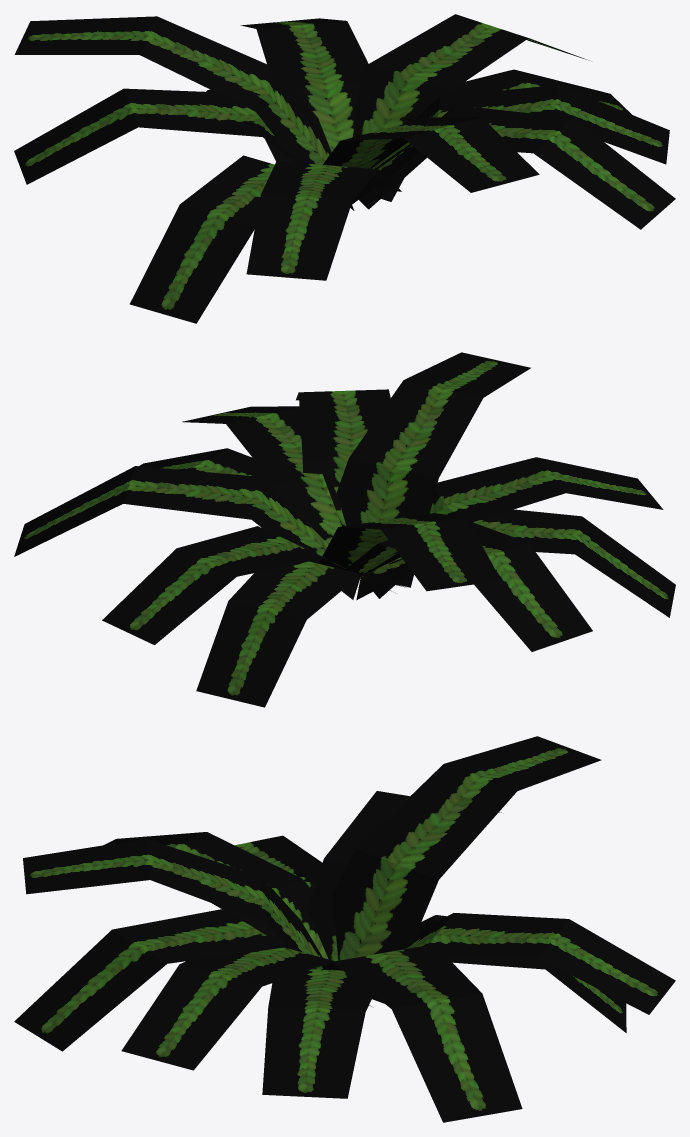
File: fern.glb
3 renders of one model, top to bottom at view 1: azimuth 30°, elevation 25°; view 2: azimuth 150°, elevation 25°; view 3: azimuth 270°, elevation 25°, orthographic. The views are drawn at different scales.
Parts seen in each view (by area): view 1: Fern; view 2: Fern; view 3: Fern.
Part boxes in pixels (left/top/right/bottom): Fern: left=14, top=14, right=675, bottom=323; Fern: left=14, top=352, right=675, bottom=707; Fern: left=14, top=736, right=675, bottom=1122.
Size of the model in its own units: 2.58 by 0.6922 by 2.43.
1 material, 1 textured.
